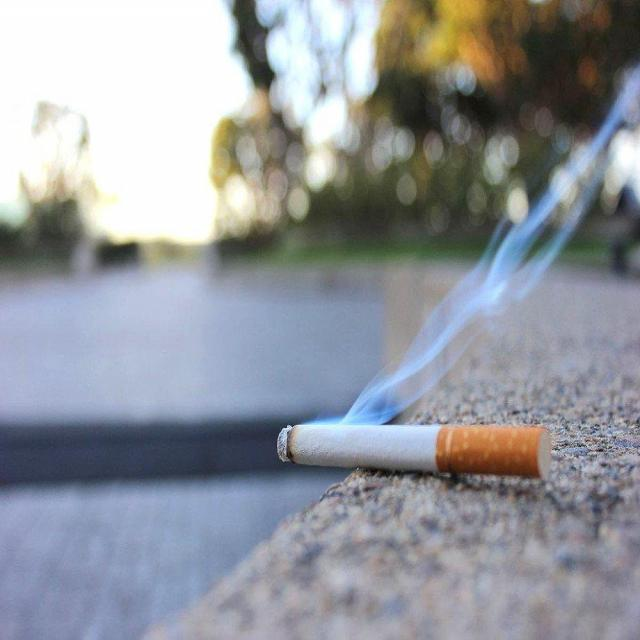cigarette: (272, 405, 557, 476)
